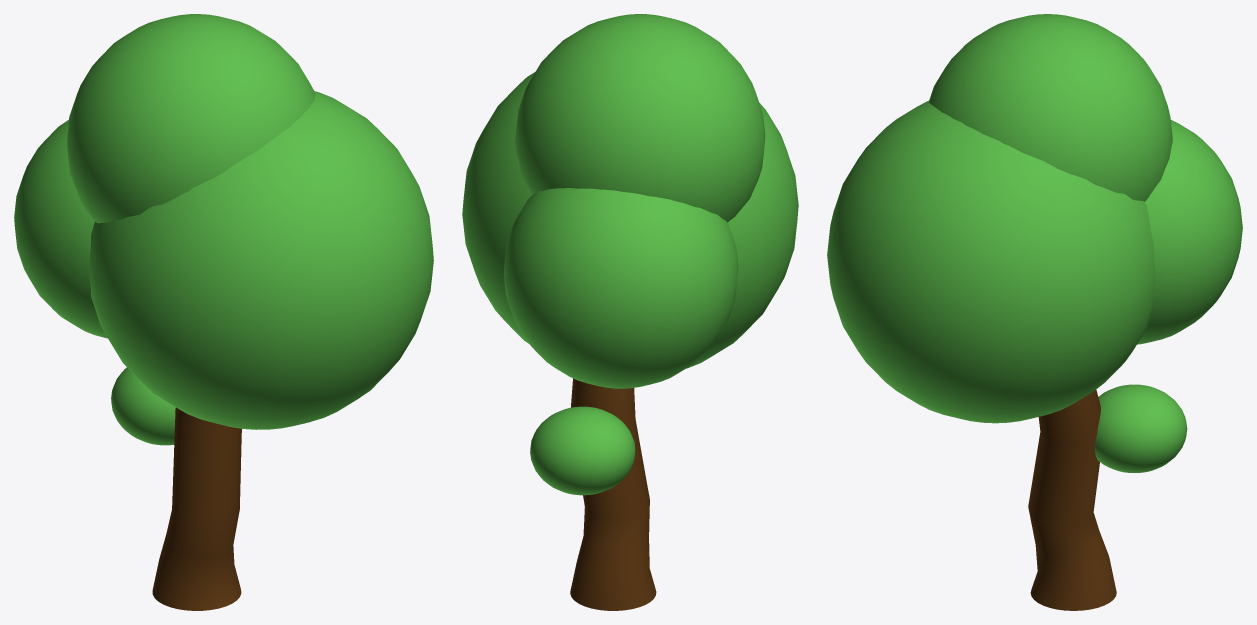
File: lehtipuu.fbx
3 views of the same model, side by side, from view 1: azimuth 30°, elevation 25°; view 2: azimuth 150°, elevation 25°; view 3: azimuth 270°, elevation 25° (orthographic). The views are drawn at different scales.
Visible parts, largest first — view 1: Cylinder; view 2: Cylinder; view 3: Cylinder.
Boxes of the visible parts, <box> form: Cylinder: <box>14,14,433,610</box>; Cylinder: <box>462,14,798,610</box>; Cylinder: <box>827,14,1242,610</box>.
Size of the model in its own units: 965 by 813 by 1436.
